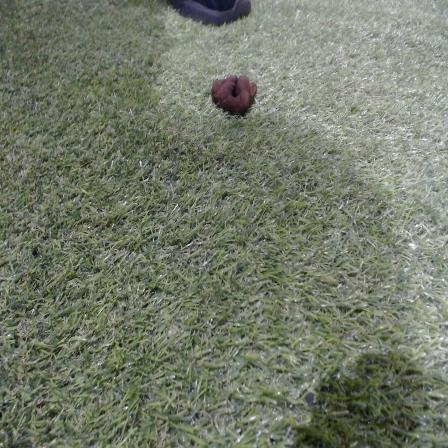dog-poop: (208, 69, 260, 113)
